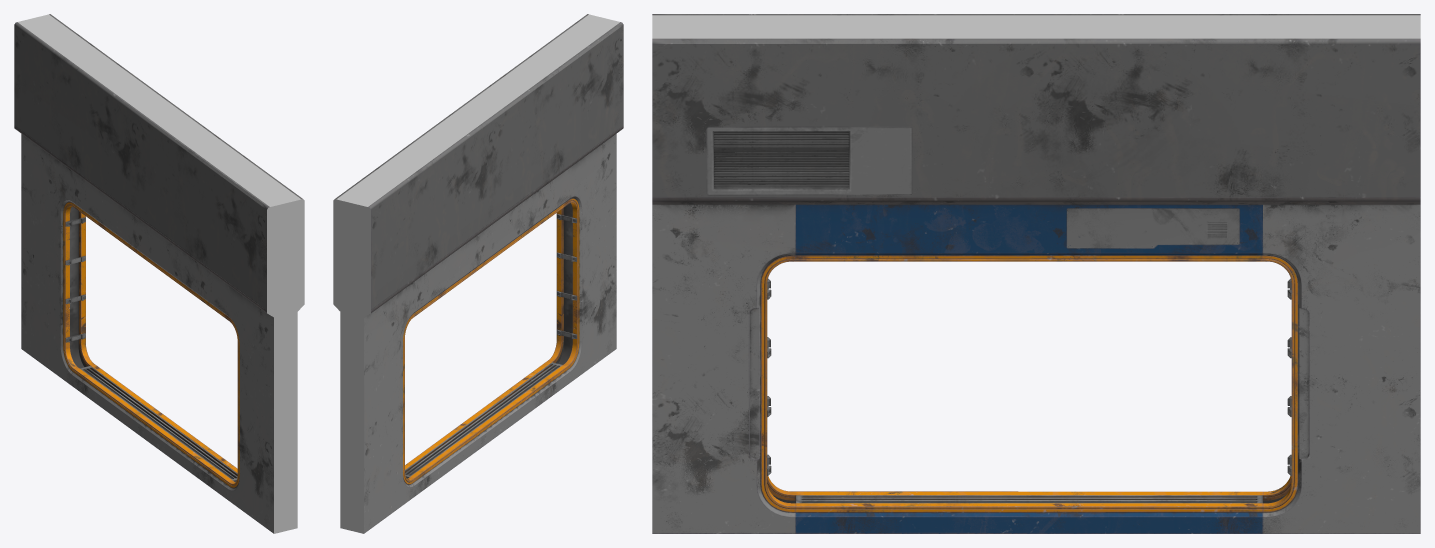
Rendered from SM_CorridorBigDoor02.fbx.
The picture shows the model from 3 angles, left to right: view 1: azimuth 30°, elevation 25°; view 2: azimuth 150°, elevation 25°; view 3: azimuth 270°, elevation 25°; orthographic projection. The views are drawn at different scales.
Parts seen in each view (by area): view 1: SM_CorridorBigDoor02_LOD0; view 2: SM_CorridorBigDoor02_LOD0; view 3: SM_CorridorBigDoor02_LOD0.
Part boxes in pixels (<box>): SM_CorridorBigDoor02_LOD0: <box>14,14,304,533</box>; SM_CorridorBigDoor02_LOD0: <box>333,14,623,533</box>; SM_CorridorBigDoor02_LOD0: <box>652,14,1420,533</box>.
Size of the model in its own units: 80.4 by 930 by 665.
Materials: 2 (1 with a texture image).
